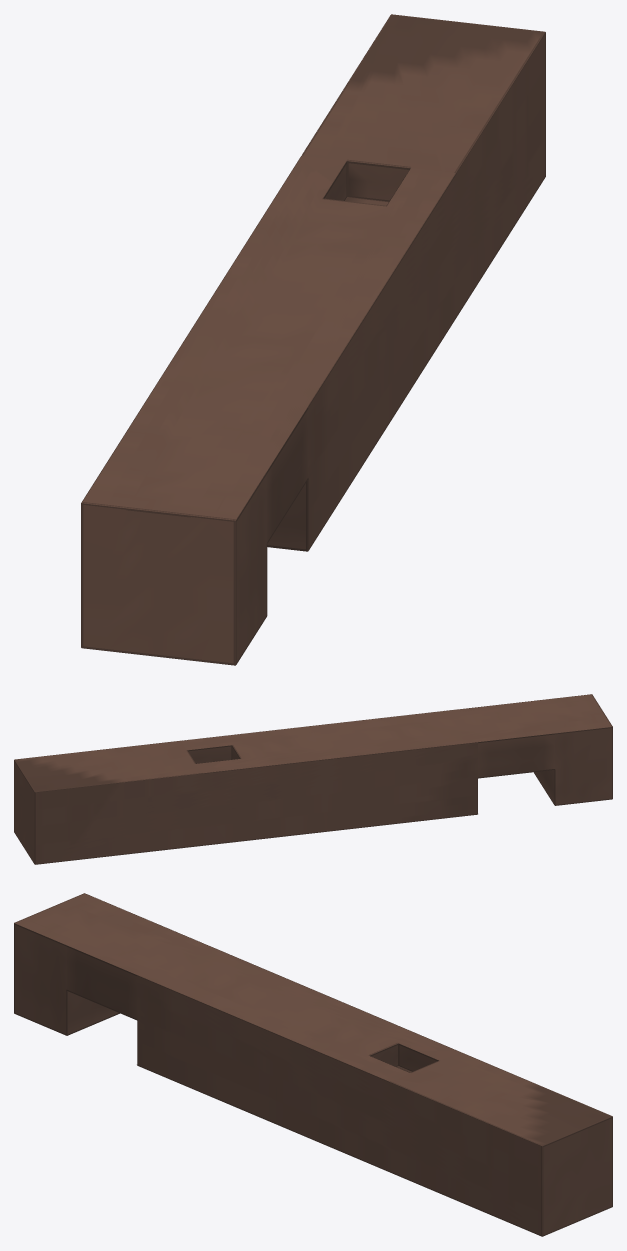
3 renders of one model, top to bottom at view 1: azimuth 30°, elevation 25°; view 2: azimuth 150°, elevation 25°; view 3: azimuth 270°, elevation 25°, orthographic. The views are drawn at different scales.
Parts seen in each view (by area): view 1: part-b; view 2: part-b; view 3: part-b.
Boxes of the visible parts, box(x1,y1,x2,y2) form: part-b: box(81, 14, 545, 665); part-b: box(14, 694, 612, 864); part-b: box(14, 893, 612, 1236).
Size of the model in its own units: 0.7218 by 0.1209 by 0.7218.
